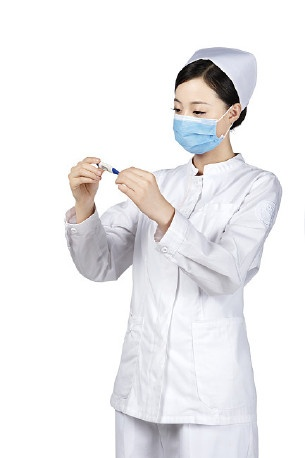Mask: (165, 92, 229, 156)
